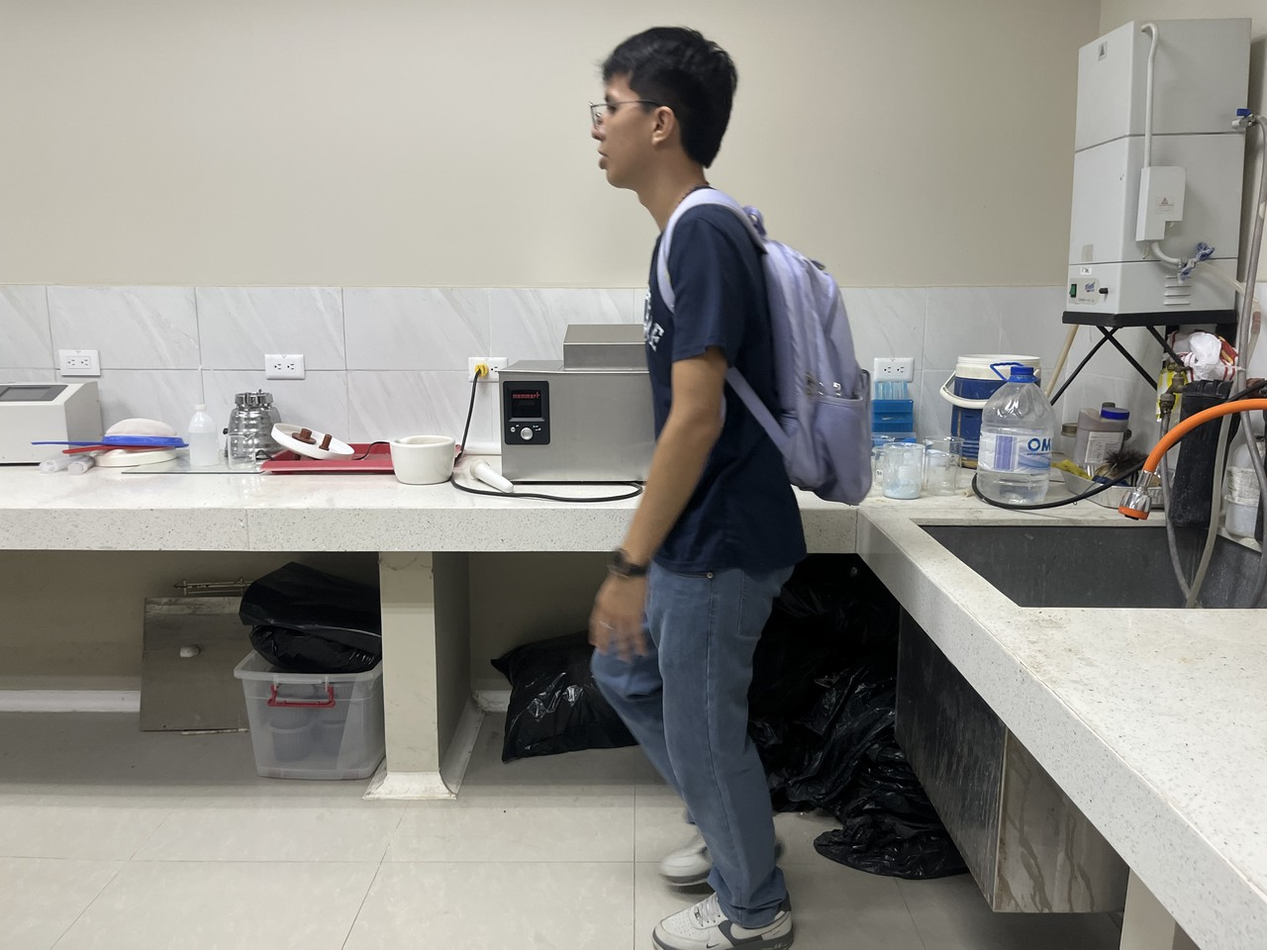memmert: (494, 287, 662, 489)
